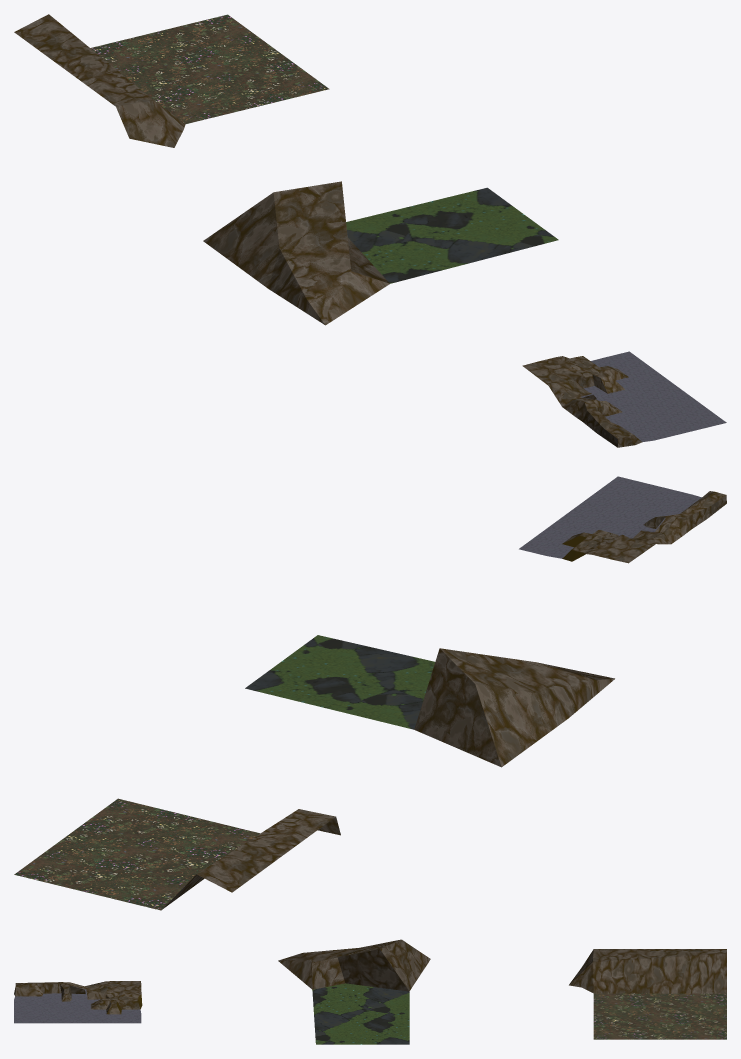
File: Level1BG.fbx
3 views of the same model, one above another, from view 1: azimuth 30°, elevation 25°; view 2: azimuth 150°, elevation 25°; view 3: azimuth 270°, elevation 25° (orthographic). The views are drawn at different scales.
Visible parts, largest first — view 1: Plane.001, Plane.002, Plane; view 2: Plane.001, Plane.002, Plane; view 3: Plane.002, Plane.001, Plane.
Part boxes in pixels (x1=…): Plane.001: x1=203, y1=181, x2=558, y2=325; Plane.002: x1=14, y1=14, x2=329, y2=147; Plane: x1=522, y1=351, x2=726, y2=447; Plane.001: x1=245, y1=635, x2=614, y2=767; Plane.002: x1=14, y1=798, x2=340, y2=910; Plane: x1=519, y1=476, x2=726, y2=563; Plane.002: x1=569, y1=949, x2=726, y2=1039; Plane.001: x1=278, y1=939, x2=430, y2=1044; Plane: x1=14, y1=981, x2=142, y2=1023.
Size of the model in its own units: 12947 by 3080 by 45623.
